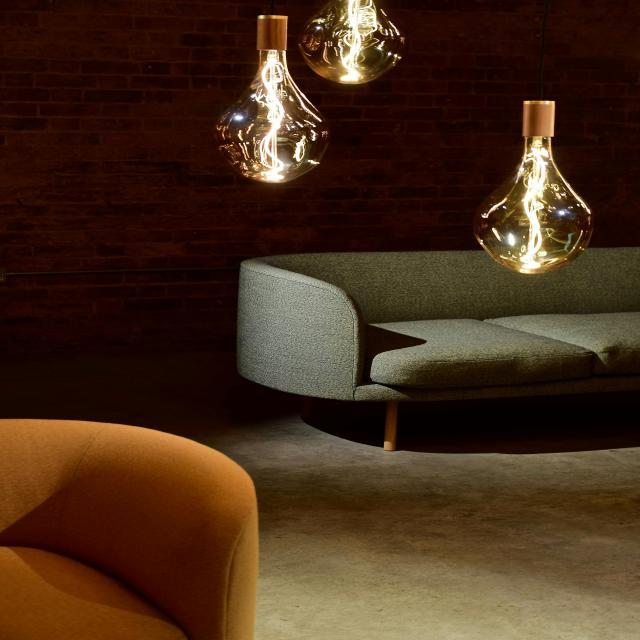sofa: (235, 246, 639, 452), (1, 417, 260, 639)
